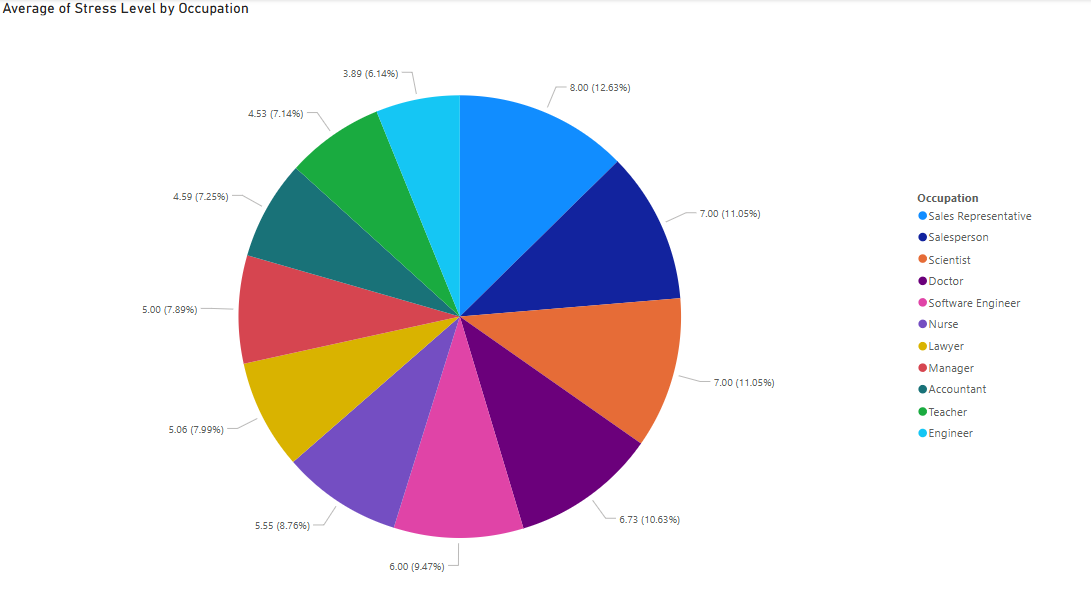

Layout of this report page (visuals, bound fields, positions):
{"tool":"powerbi","page":{"name":"Page 2","canvas":[1280,720],"ordinal":5},"visuals":[{"type":"pieChart","fields":{"Category":["Good.Occupation"],"Y":["Avg(Good.Stress Level)"]},"box":[0,0,1217.8,720],"z":0}]}

Visuals, with their boxes in screenshot pixels (x1, y1, x2, y2), scaled from the page's 1280x720 canvas onto the 1091x605 screenshot:
pieChart - Good.Occupation x Avg(Good.Stress Level): box(0, 0, 1038, 604)
